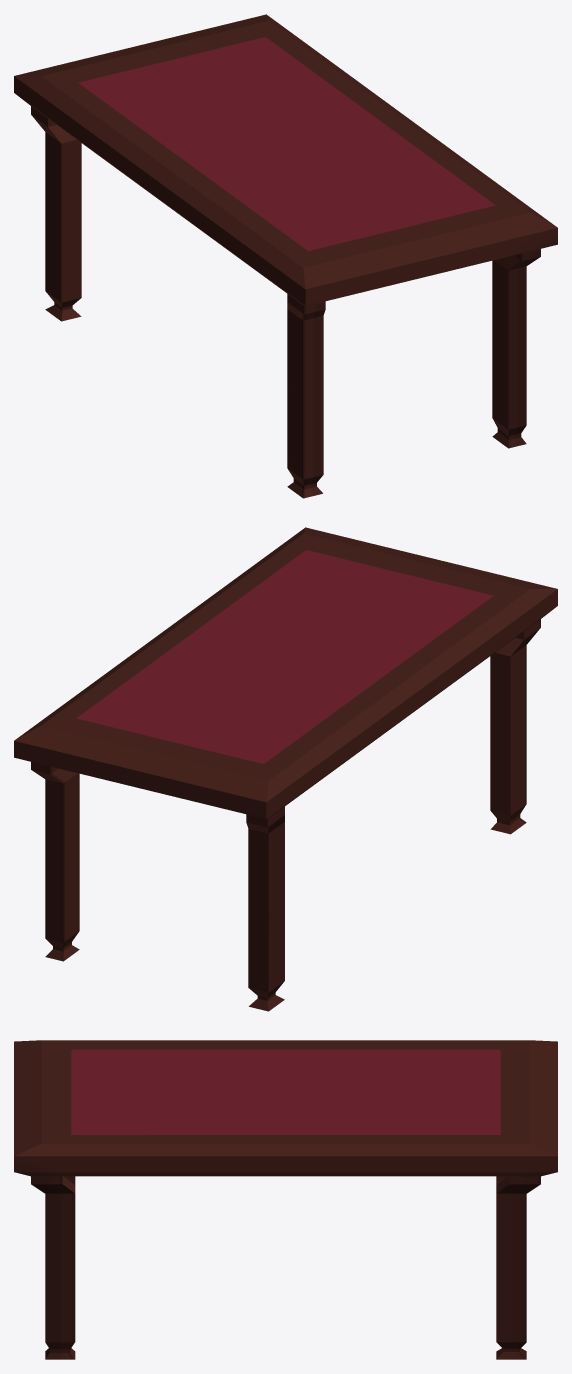
The model's file is table.glb.
3 renders of one model, top to bottom at view 1: azimuth 30°, elevation 25°; view 2: azimuth 150°, elevation 25°; view 3: azimuth 270°, elevation 25°, orthographic. The views are drawn at different scales.
Parts seen in each view (by area): view 1: Cube; view 2: Cube; view 3: Cube.
Boxes of the visible parts, left/top/right/bottom form: Cube: left=14, top=14, right=557, bottom=498; Cube: left=14, top=527, right=557, bottom=1011; Cube: left=14, top=1040, right=557, bottom=1359.
Size of the model in its own units: 2 by 1.76 by 4.
1 material, 1 textured.
